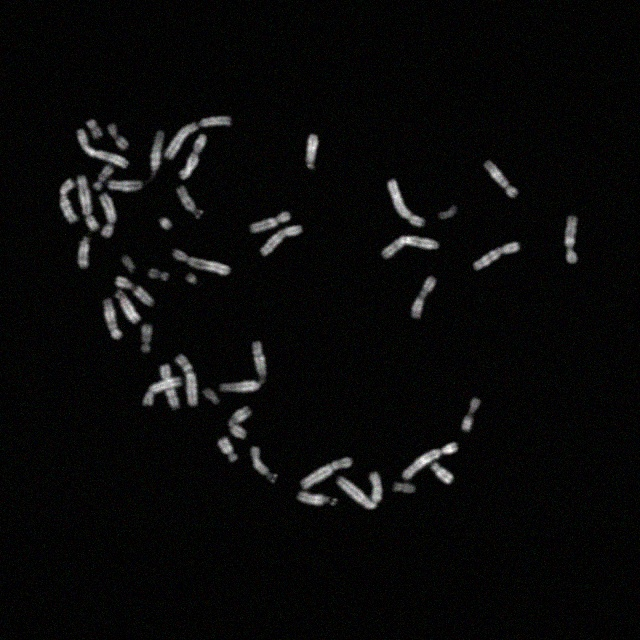chromosome: (163, 116, 231, 160), (219, 342, 266, 392), (76, 129, 129, 167), (404, 443, 458, 479), (388, 180, 426, 226), (301, 456, 351, 489), (338, 472, 382, 508), (382, 236, 440, 260), (173, 250, 229, 274), (76, 175, 99, 231), (474, 242, 518, 270), (484, 162, 518, 198), (179, 134, 206, 178), (260, 226, 302, 254), (116, 275, 154, 305), (142, 378, 182, 406), (176, 354, 198, 404), (412, 276, 436, 318), (249, 211, 289, 233), (252, 446, 276, 482), (116, 290, 140, 324), (178, 186, 202, 218), (60, 178, 77, 222), (228, 407, 252, 438), (104, 298, 122, 338), (100, 193, 116, 237), (162, 364, 178, 408), (564, 215, 578, 262), (462, 398, 480, 430), (151, 130, 163, 176), (298, 492, 337, 506), (108, 124, 128, 150), (219, 437, 239, 461), (93, 166, 113, 188), (306, 134, 318, 170), (432, 462, 452, 483), (77, 236, 90, 268), (109, 179, 141, 191), (87, 119, 103, 139), (203, 386, 219, 406), (148, 268, 170, 282), (142, 325, 153, 353), (394, 482, 416, 494), (122, 256, 136, 272), (441, 206, 457, 218), (158, 218, 172, 230), (185, 273, 197, 285)
